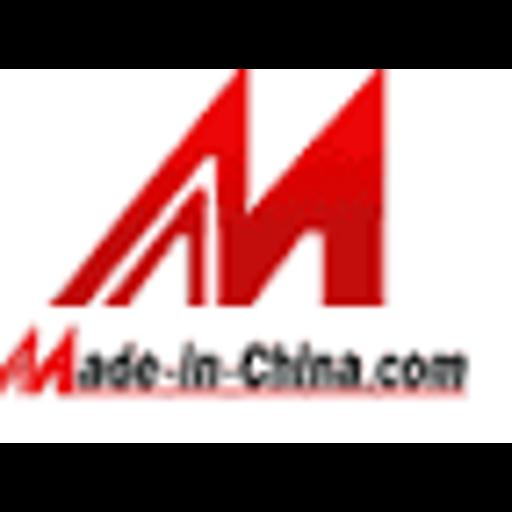Made-In-China: (0, 69, 512, 443)
